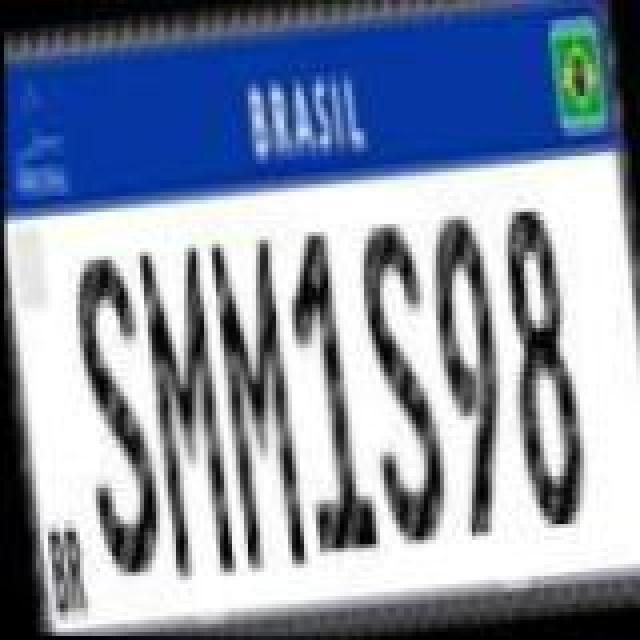1: (270, 222, 382, 558)
8: (484, 198, 596, 538)
9: (412, 202, 524, 542)
M: (128, 238, 244, 586), (200, 230, 316, 578)
S: (58, 248, 170, 584), (342, 216, 454, 552)
